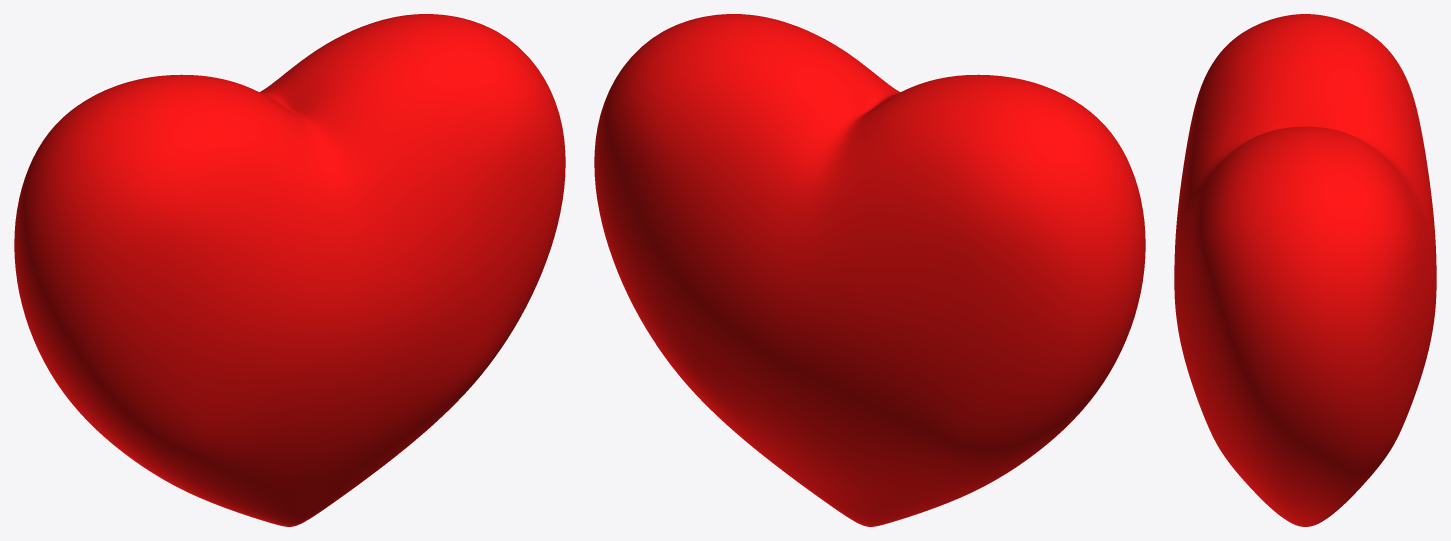
Rendered from heart-transformed.glb.
3 renders of one model, left to right at view 1: azimuth 30°, elevation 25°; view 2: azimuth 150°, elevation 25°; view 3: azimuth 270°, elevation 25°, orthographic. The views are drawn at different scales.
Visible parts, largest first — view 1: Vert; view 2: Vert; view 3: Vert.
Part boxes in pixels (bbox=[...]): Vert: bbox=[14, 14, 565, 526]; Vert: bbox=[594, 14, 1145, 526]; Vert: bbox=[1174, 14, 1436, 526].
Size of the model in its own units: 2.77 by 2.36 by 1.28.
